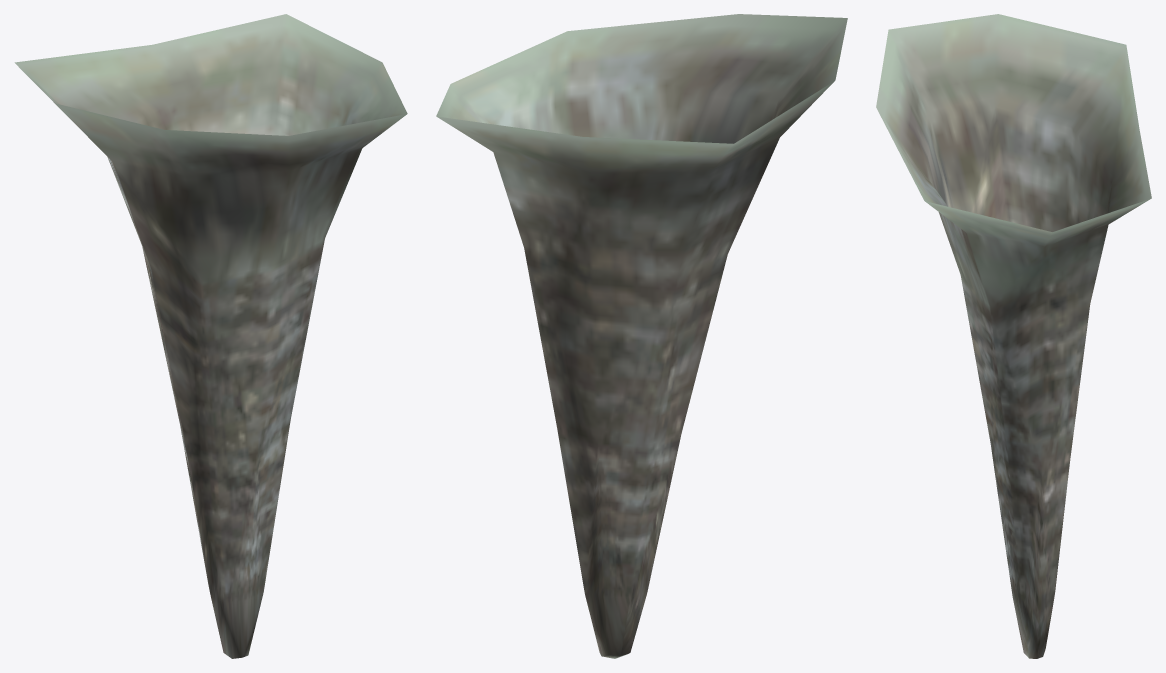
Rendered from TROLLHOLE02_PS-UPPERSTALAG22.fbx.
3 renders of one model, left to right at view 1: azimuth 30°, elevation 25°; view 2: azimuth 150°, elevation 25°; view 3: azimuth 270°, elevation 25°, orthographic. The views are drawn at different scales.
Visible parts, largest first — view 1: TROLLHOLE02_PS-UPPERSTALAG22; view 2: TROLLHOLE02_PS-UPPERSTALAG22; view 3: TROLLHOLE02_PS-UPPERSTALAG22.
Boxes of the visible parts, box(x1,y1,x2,y2) form: TROLLHOLE02_PS-UPPERSTALAG22: box(14, 14, 407, 658); TROLLHOLE02_PS-UPPERSTALAG22: box(436, 14, 847, 658); TROLLHOLE02_PS-UPPERSTALAG22: box(876, 14, 1151, 658).
Size of the model in its own units: 14433 by 24051 by 10744.
1 material, 1 textured.
